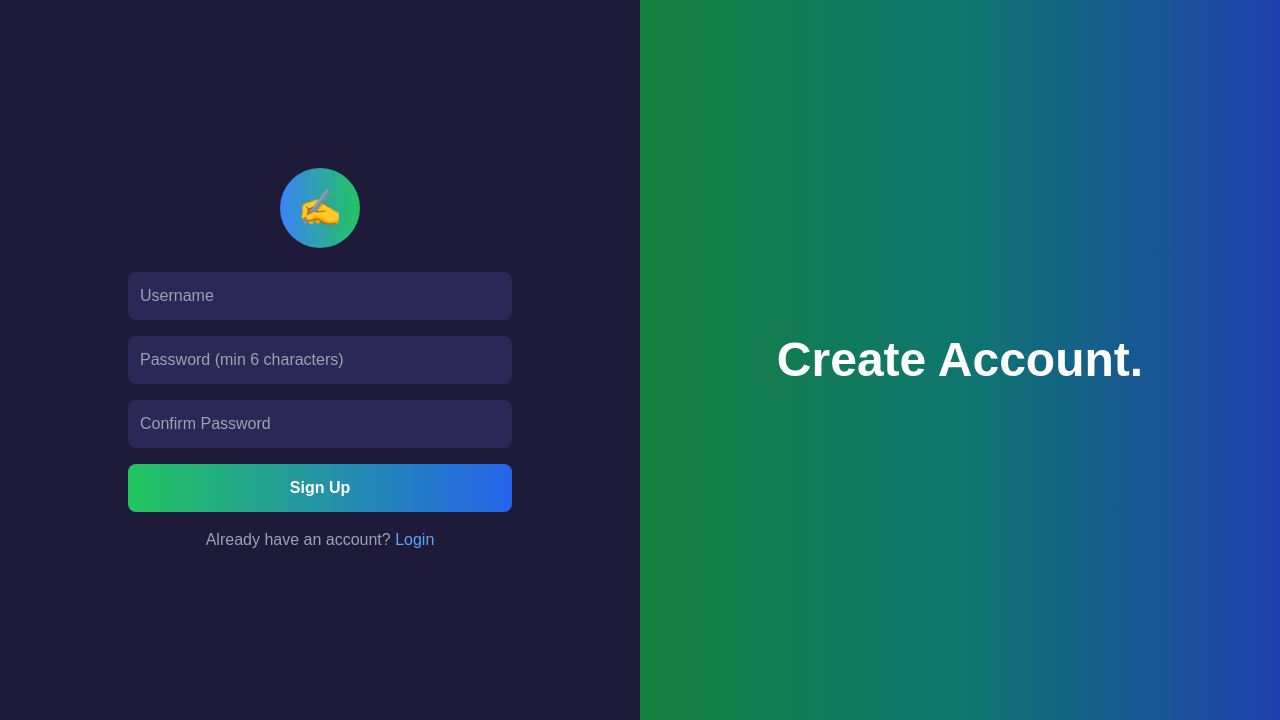
Test: shows error when passwords mismatch
The image size is (1280, 720).
Type "bob" into the field with placeholder "Username" at coordinates (320, 296), box [128,272,512,320]
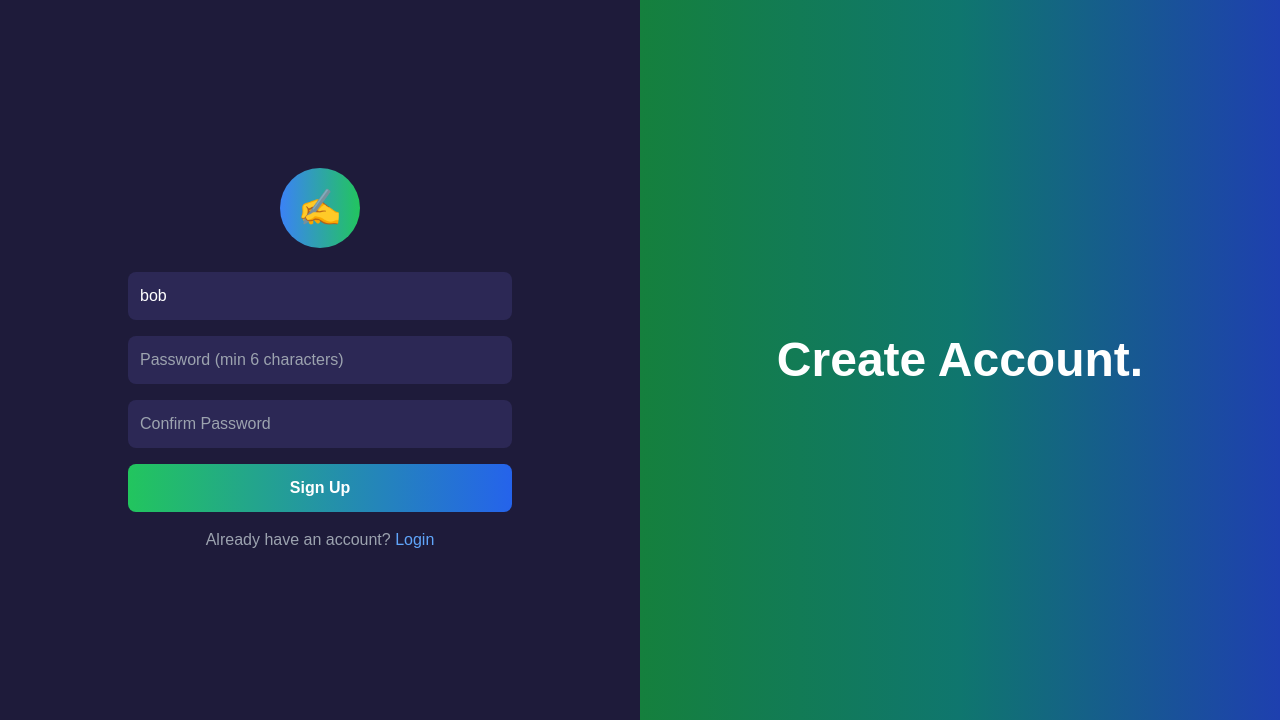
Type "secret123" into the password field with placeholder "Password (min 6 characters)" at coordinates (320, 360), box [128,336,512,384]
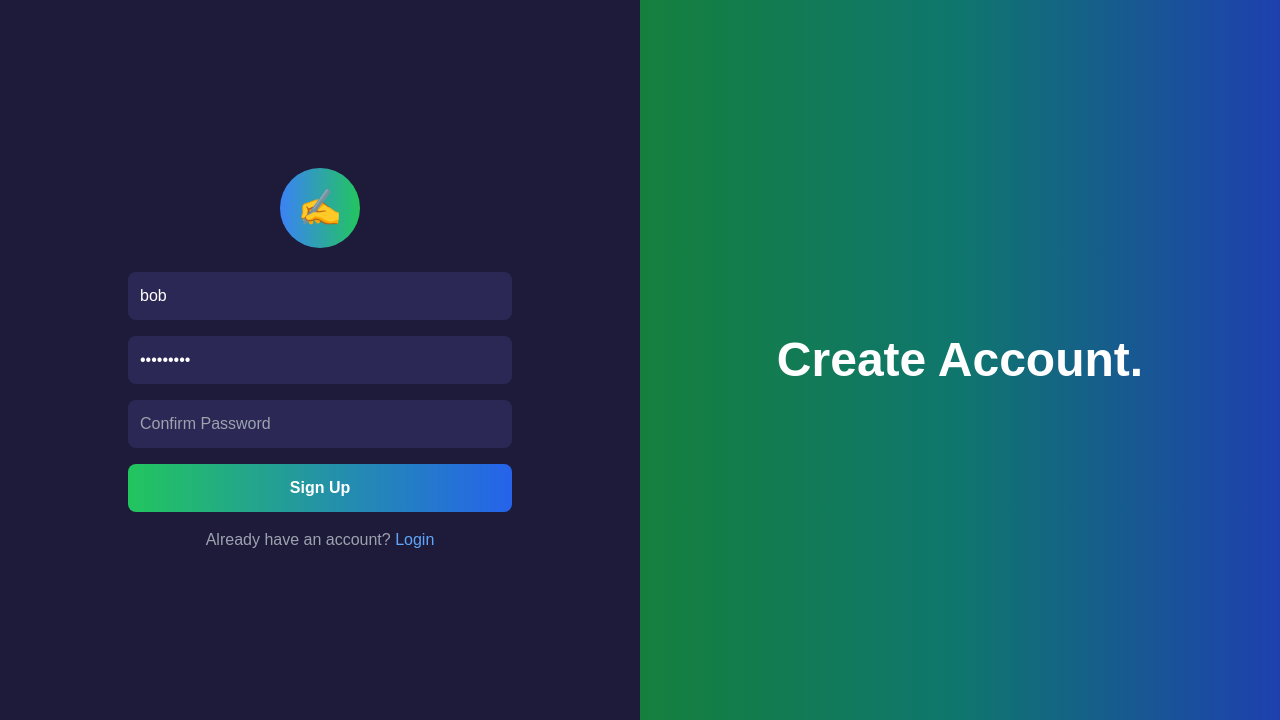
Type "different" into the password field with placeholder "Confirm Password" at coordinates (320, 424), box [128,400,512,448]
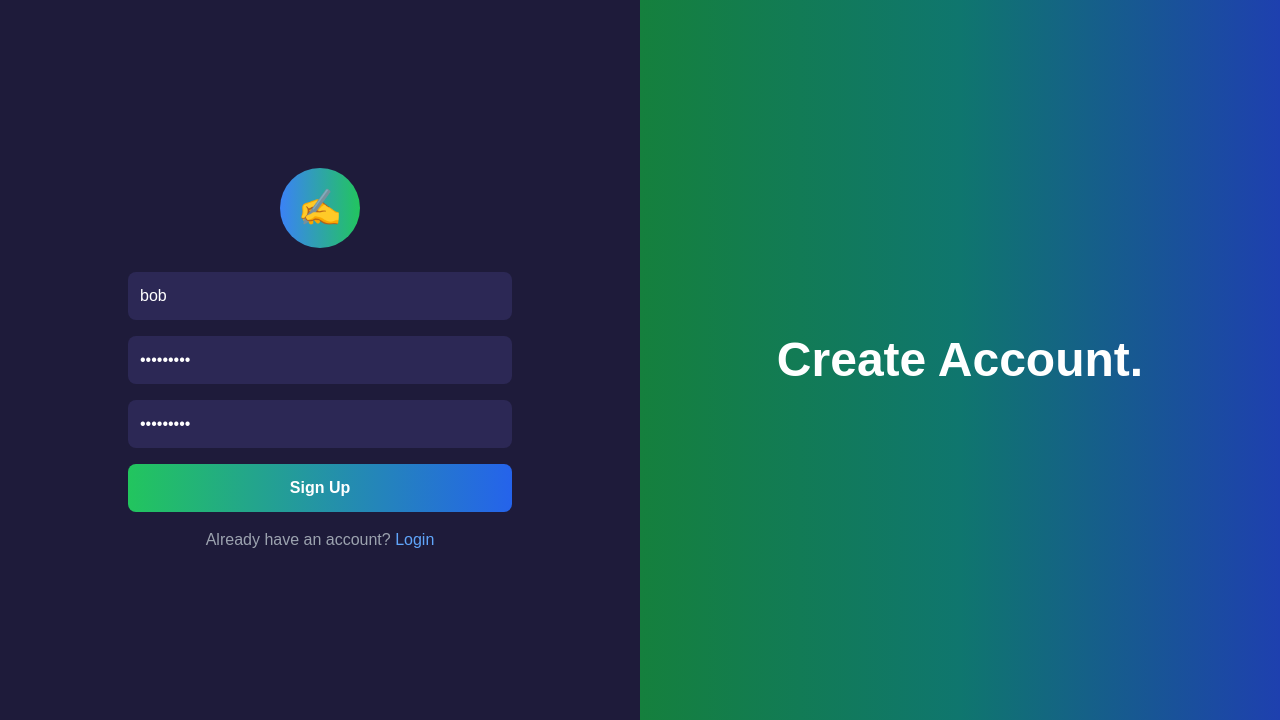
Click the button "Sign Up" at coordinates (320, 488), box [128,464,512,512]
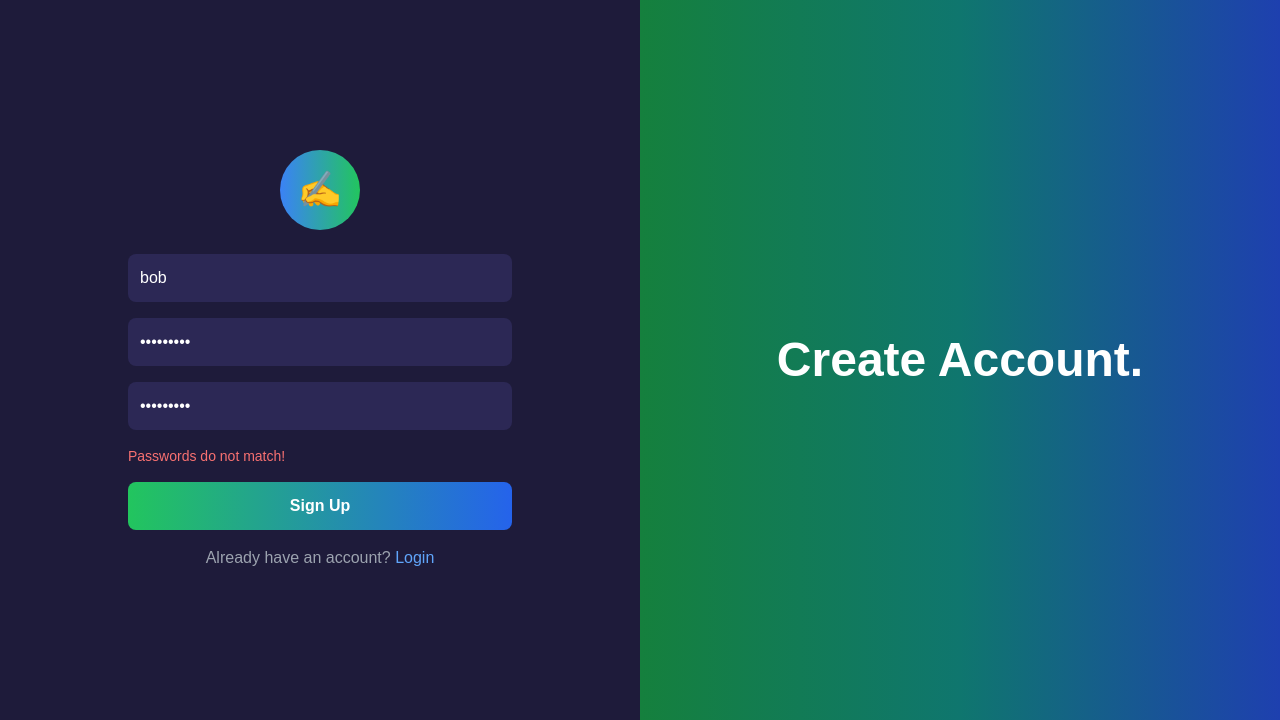
Now the text "Passwords do not match!" is shown, box [128,448,285,464]
